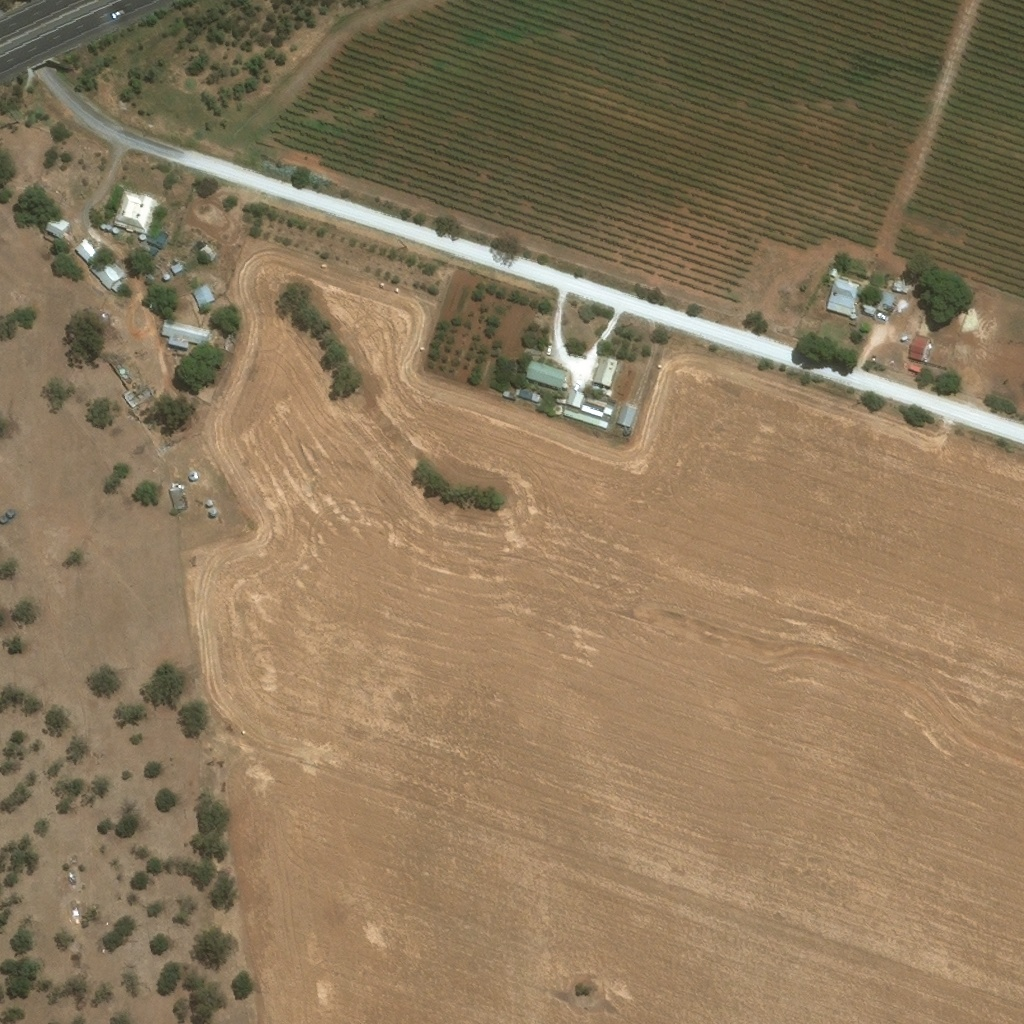0 no-damage: (71, 239, 122, 293), (109, 189, 156, 236), (157, 320, 209, 350), (824, 276, 860, 316), (524, 359, 566, 390), (590, 354, 617, 389), (561, 410, 607, 430), (187, 284, 214, 310), (906, 337, 927, 363), (42, 218, 67, 239), (615, 403, 635, 429), (143, 229, 167, 250), (874, 291, 894, 315), (166, 486, 184, 511), (514, 388, 541, 403), (197, 244, 217, 262), (565, 390, 583, 409), (889, 279, 908, 295), (579, 406, 602, 418), (861, 302, 876, 317), (906, 362, 920, 375), (168, 263, 182, 276), (186, 472, 198, 483), (552, 405, 561, 415), (109, 228, 119, 237), (207, 507, 216, 517), (204, 499, 213, 508), (602, 407, 612, 415), (161, 273, 170, 281), (501, 389, 509, 397), (137, 235, 144, 243)
